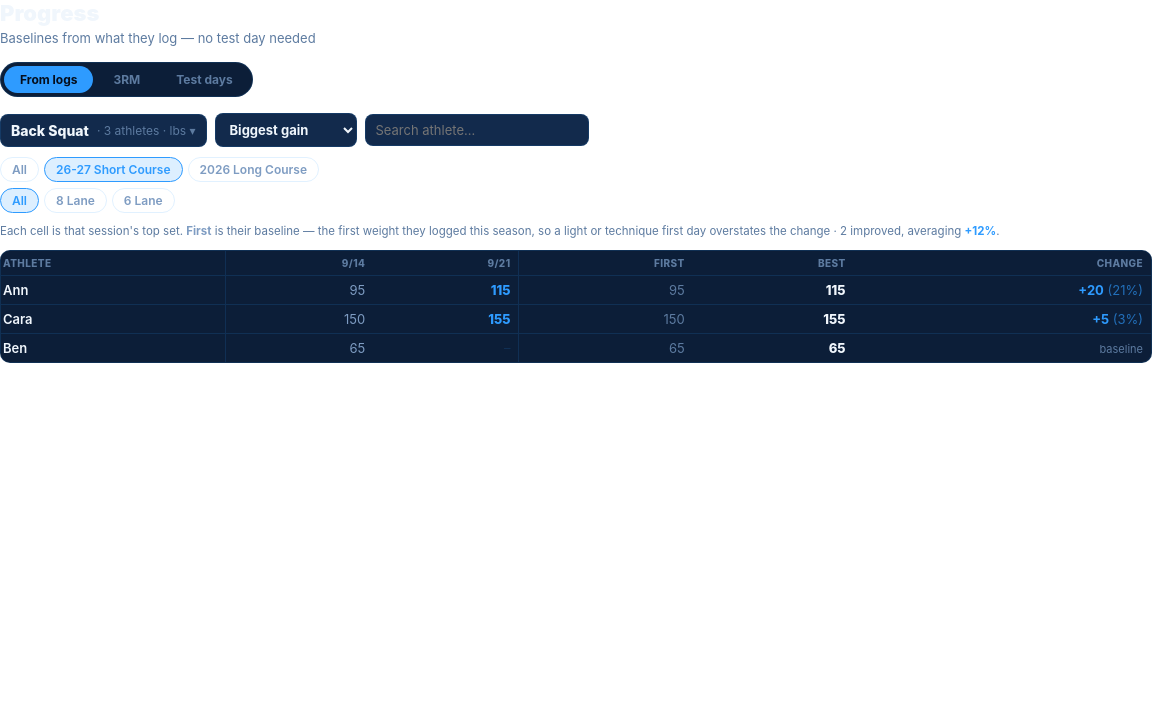
Test: the movement picker lists only movements with data, searchable and type-filtered
Click the button "Back Squat · 3 athletes · lbs ▾": coordinates (103, 130) [0,114,206,146]
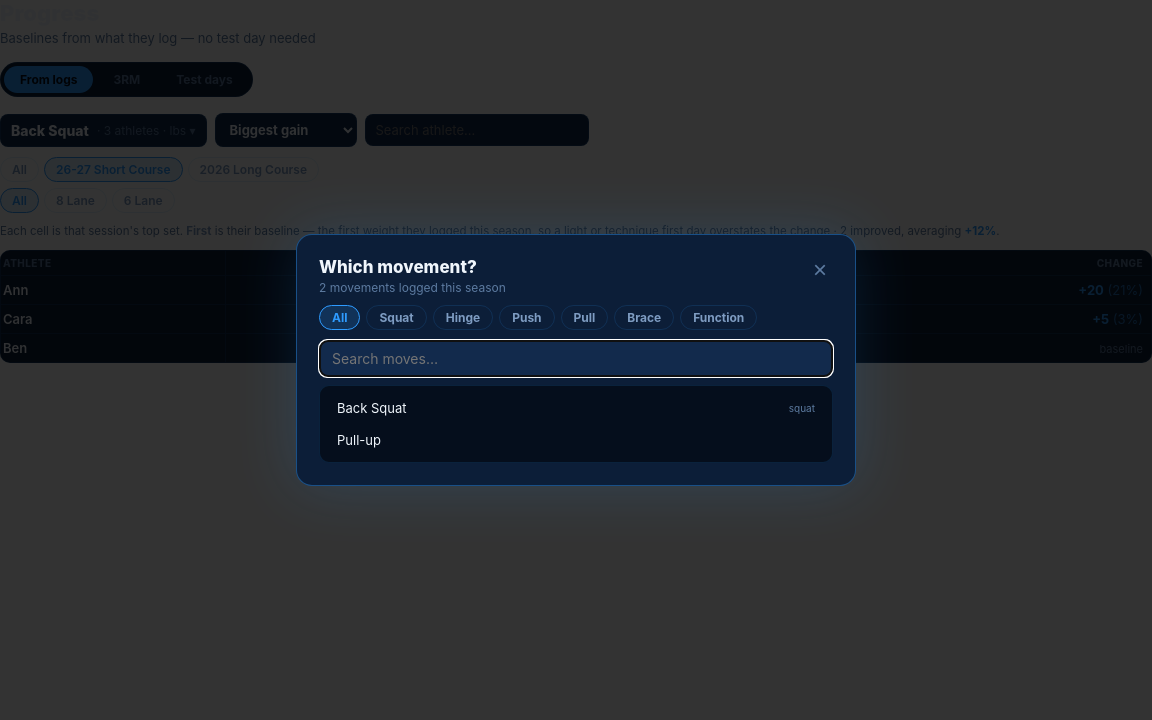
Expected: the field with placeholder "Search moves…" is shown
Expected: the text "2 movements logged this season" is shown, [319,280,506,295]
In the field with placeholder "Search moves…": coordinates (576, 358) [319,340,833,377], type "squat"
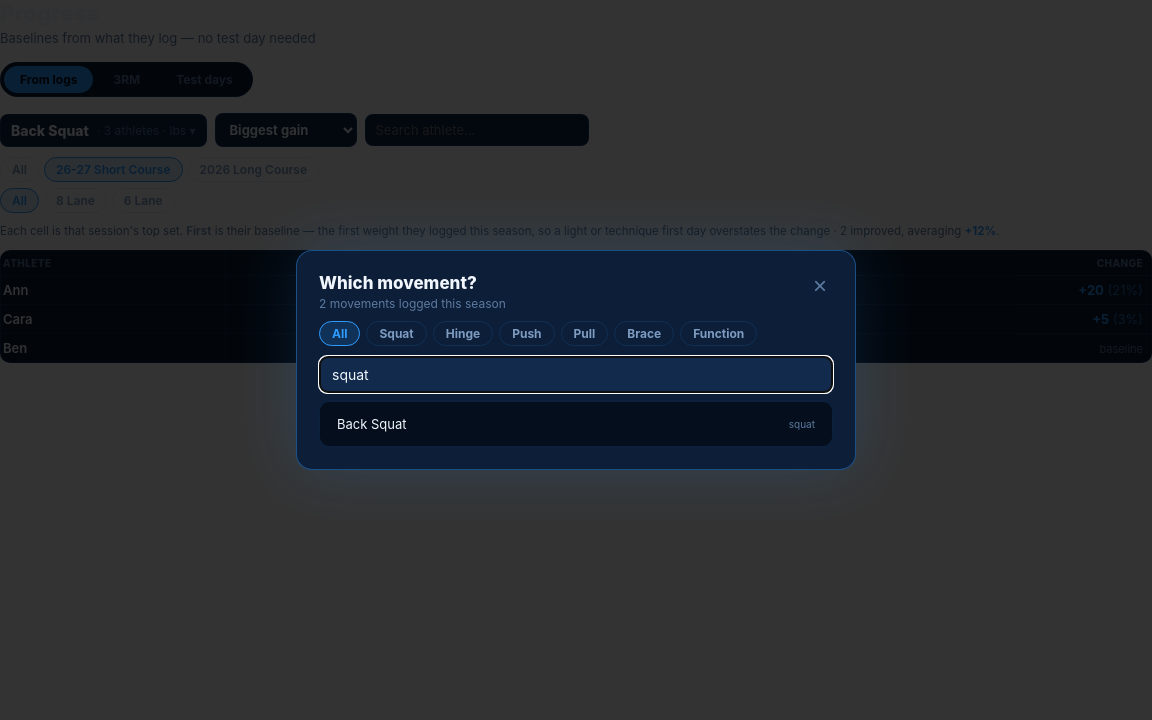
Expected: the button "Pull-up" is gone
